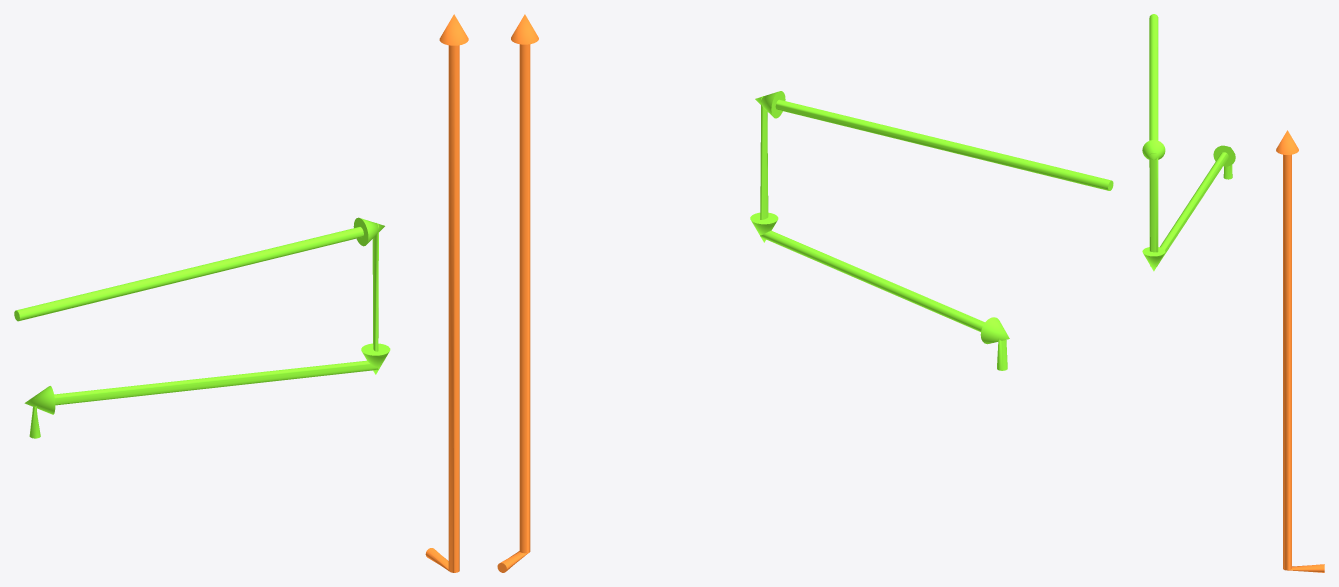
Rendered from ventilation_system_flow.glb.
The picture shows the model from 3 angles, left to right: view 1: azimuth 30°, elevation 25°; view 2: azimuth 150°, elevation 25°; view 3: azimuth 270°, elevation 25°; orthographic projection. The views are drawn at different scales.
Visible parts, largest first — view 1: supply_air, exhaust_air; view 2: supply_air, exhaust_air; view 3: exhaust_air, supply_air.
Boxes of the visible parts, x1,y1,x2,y2 form: supply_air: (14, 217, 390, 438); exhaust_air: (425, 14, 468, 572); supply_air: (750, 91, 1113, 370); exhaust_air: (497, 14, 538, 572); exhaust_air: (1276, 130, 1324, 572); supply_air: (1142, 14, 1235, 271).
Size of the model in its own units: 3.28 by 3.29 by 1.23.
